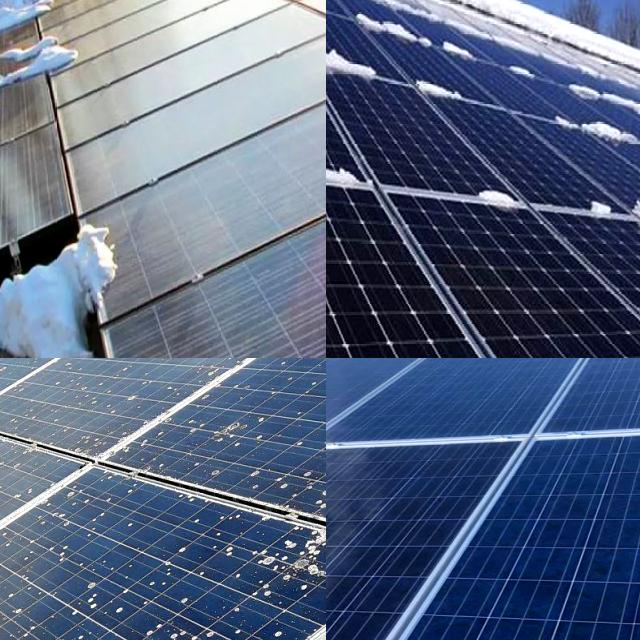bird: (80, 560, 132, 624), (285, 530, 326, 589), (0, 594, 21, 635)
crack: (326, 414, 640, 640)
panel: (504, 37, 640, 97), (326, 0, 460, 42), (326, 132, 394, 212), (84, 201, 124, 321), (566, 118, 640, 181), (0, 43, 72, 95), (31, 0, 97, 44), (469, 168, 527, 214), (0, 94, 45, 151), (0, 157, 42, 215), (326, 44, 385, 85), (410, 71, 472, 107), (0, 241, 34, 288), (326, 0, 372, 28), (0, 0, 23, 53), (595, 191, 618, 226)
